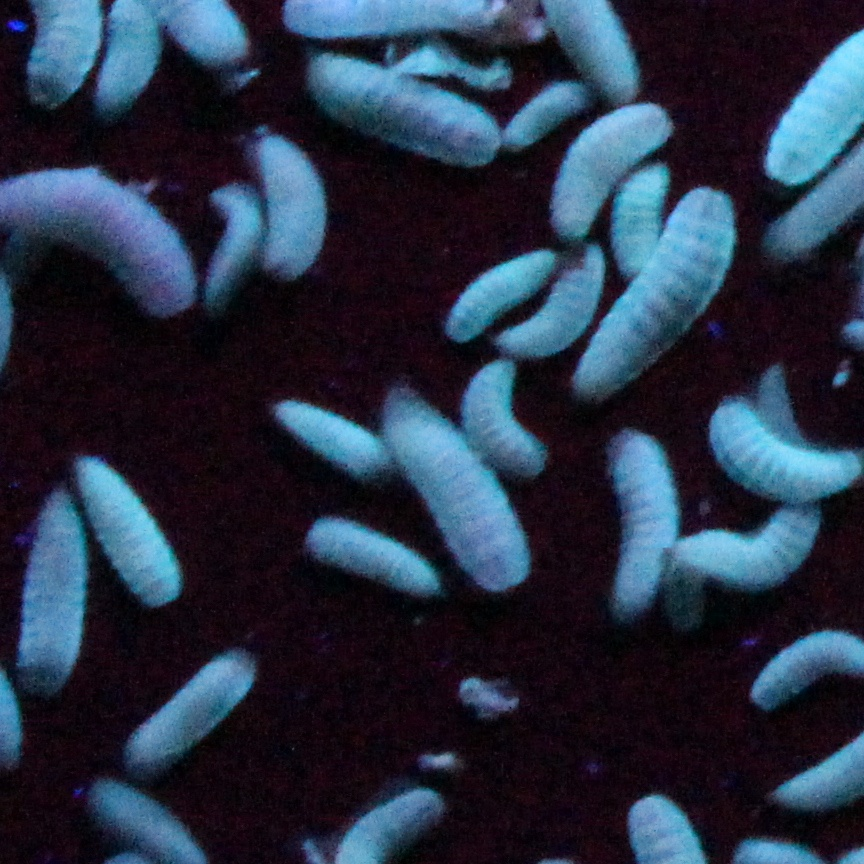larve: (573, 181, 748, 418), (381, 389, 534, 589), (307, 50, 499, 161), (126, 640, 261, 765), (560, 99, 677, 238), (707, 399, 861, 499), (75, 453, 177, 600), (603, 432, 673, 616), (505, 246, 612, 355), (669, 506, 816, 581), (26, 487, 77, 685), (303, 520, 440, 591), (256, 134, 320, 285), (463, 353, 538, 469), (267, 402, 381, 473), (442, 253, 536, 336), (616, 148, 671, 269), (505, 79, 591, 148), (209, 189, 254, 304)
